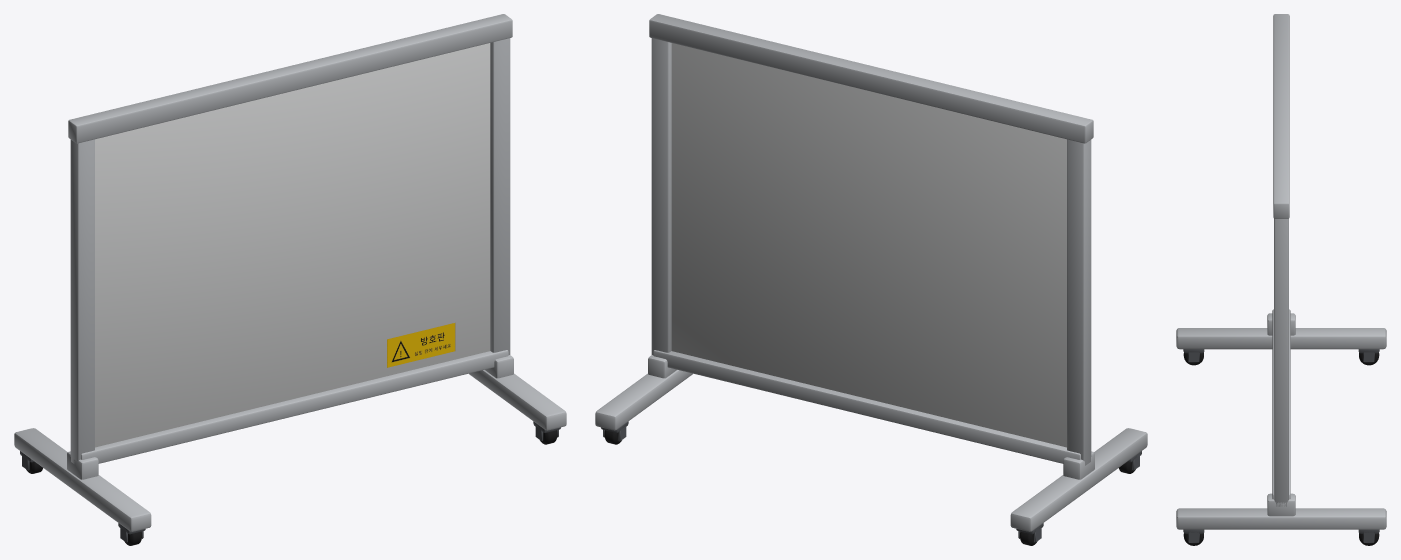
Rendered from shield.glb.
The picture shows the model from 3 angles, left to right: view 1: azimuth 30°, elevation 25°; view 2: azimuth 150°, elevation 25°; view 3: azimuth 270°, elevation 25°; orthographic projection. The views are drawn at different scales.
Parts seen in each view (by area): view 1: shield_panel, shield_frame, shield_sticker; view 2: shield_panel, shield_frame; view 3: shield_frame, shield_casters, shield_wheels.
Boxes of the visible parts, left/top/right/bottom form: shield_panel: left=95, top=43, right=490, bottom=447; shield_frame: left=14, top=14, right=566, bottom=531; shield_sticker: left=387, top=323, right=455, bottom=367; shield_panel: left=671, top=43, right=1066, bottom=447; shield_frame: left=595, top=14, right=1147, bottom=531; shield_frame: left=1176, top=14, right=1386, bottom=529; shield_casters: left=1183, top=349, right=1379, bottom=542; shield_wheels: left=1183, top=353, right=1379, bottom=545.
Bounding box in the file's own units: 0.642 × 0.545 × 0.3.
5 materials, 1 textured.
